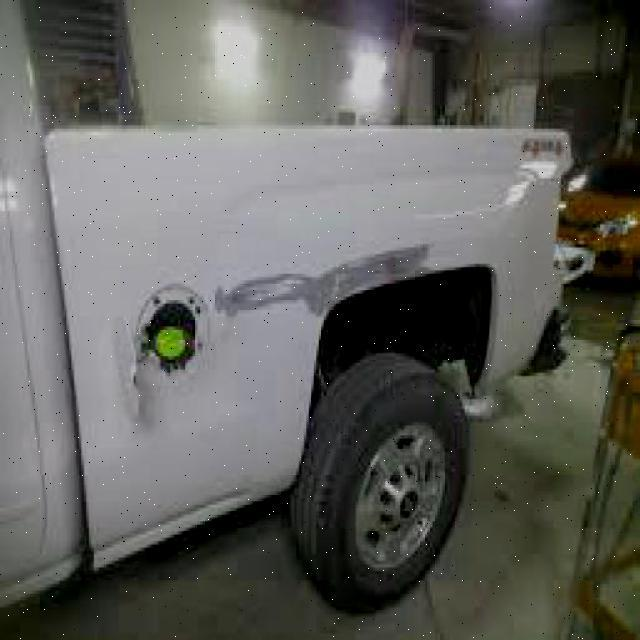car damage: (211, 221, 441, 328)
